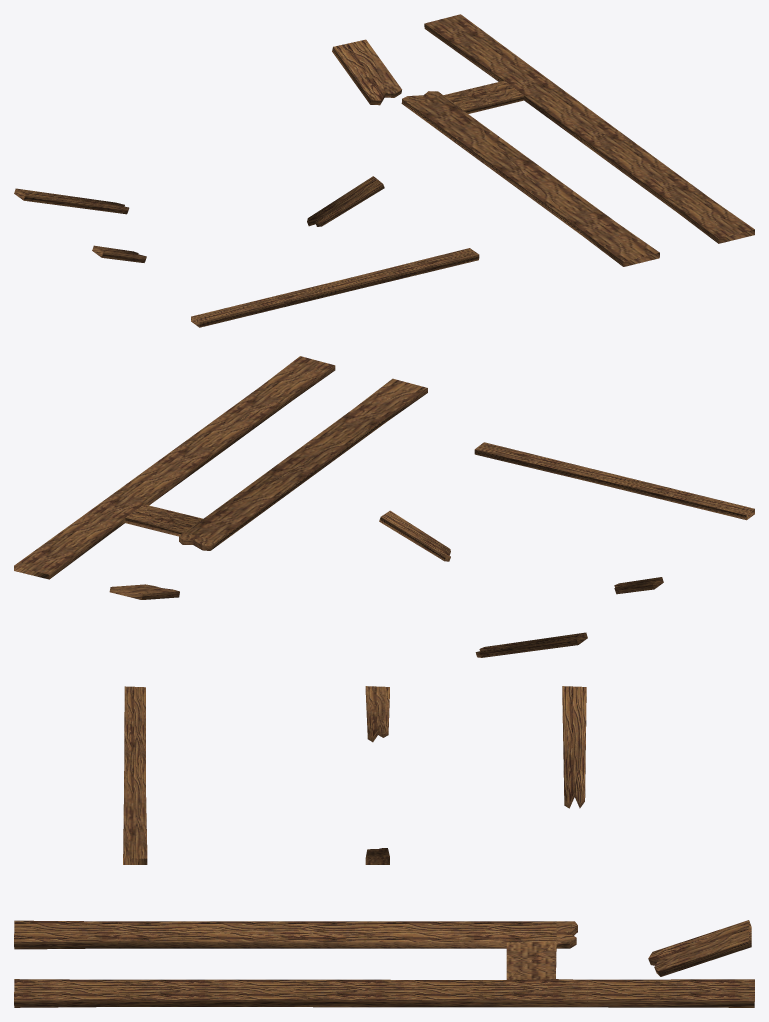
The model's file is LAKETOWN_WAREHOUSE3_PS_WH3_RAFTERS74746.fbx.
The picture shows the model from 3 angles, top to bottom: view 1: azimuth 30°, elevation 25°; view 2: azimuth 150°, elevation 25°; view 3: azimuth 270°, elevation 25°; orthographic projection. The views are drawn at different scales.
Visible parts, largest first — view 1: LAKETOWN_WAREHOUSE3_PS_WH3_RAFTERS74746; view 2: LAKETOWN_WAREHOUSE3_PS_WH3_RAFTERS74746; view 3: LAKETOWN_WAREHOUSE3_PS_WH3_RAFTERS74746.
Boxes of the visible parts, x1,y1,x2,y2 form: LAKETOWN_WAREHOUSE3_PS_WH3_RAFTERS74746: (14, 14, 754, 327); LAKETOWN_WAREHOUSE3_PS_WH3_RAFTERS74746: (14, 356, 754, 657); LAKETOWN_WAREHOUSE3_PS_WH3_RAFTERS74746: (14, 686, 754, 1007).
Size of the model in its own units: 176066 by 15344 by 174735.
1 material, 1 textured.
